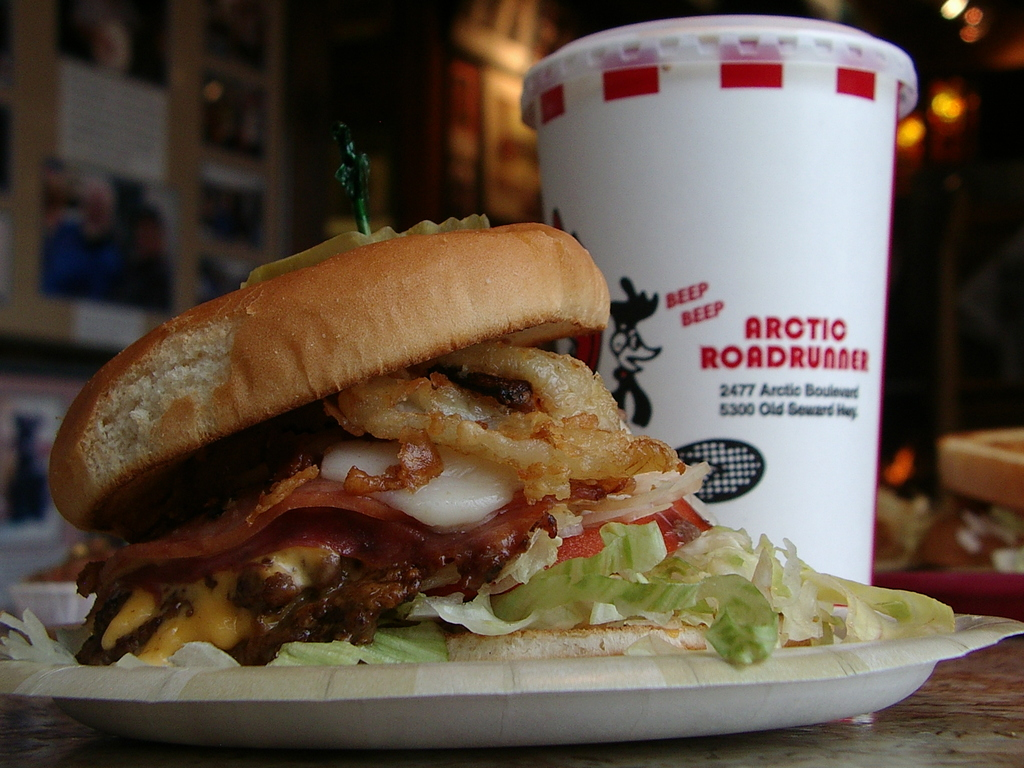person: (39, 174, 129, 303)
